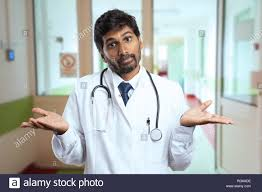Indian_Male: (99, 18, 147, 77)
